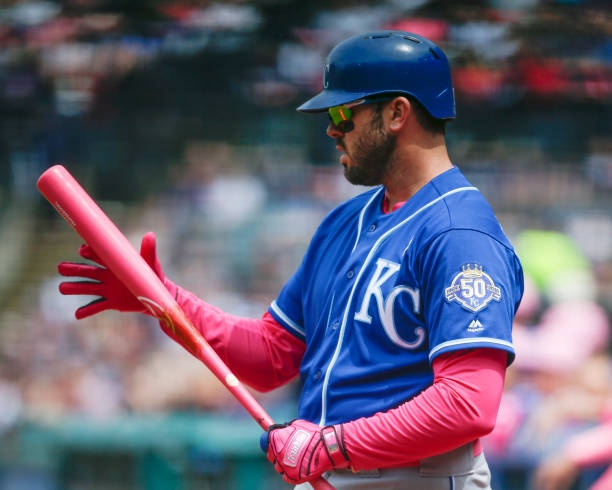bita: (34, 162, 334, 490)
